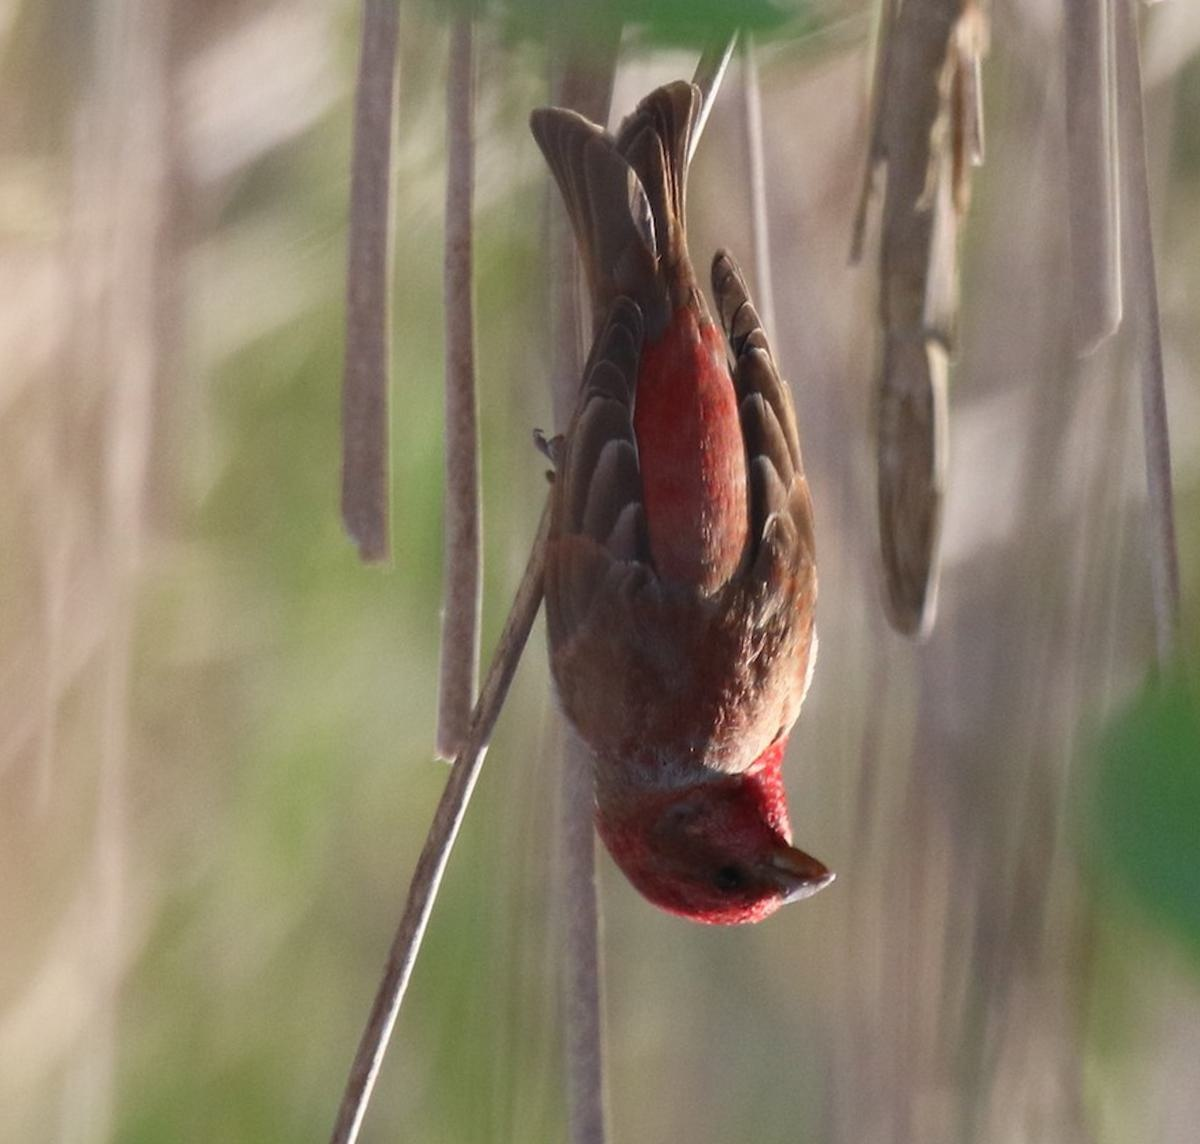rosefinch: (544, 102, 868, 943)
